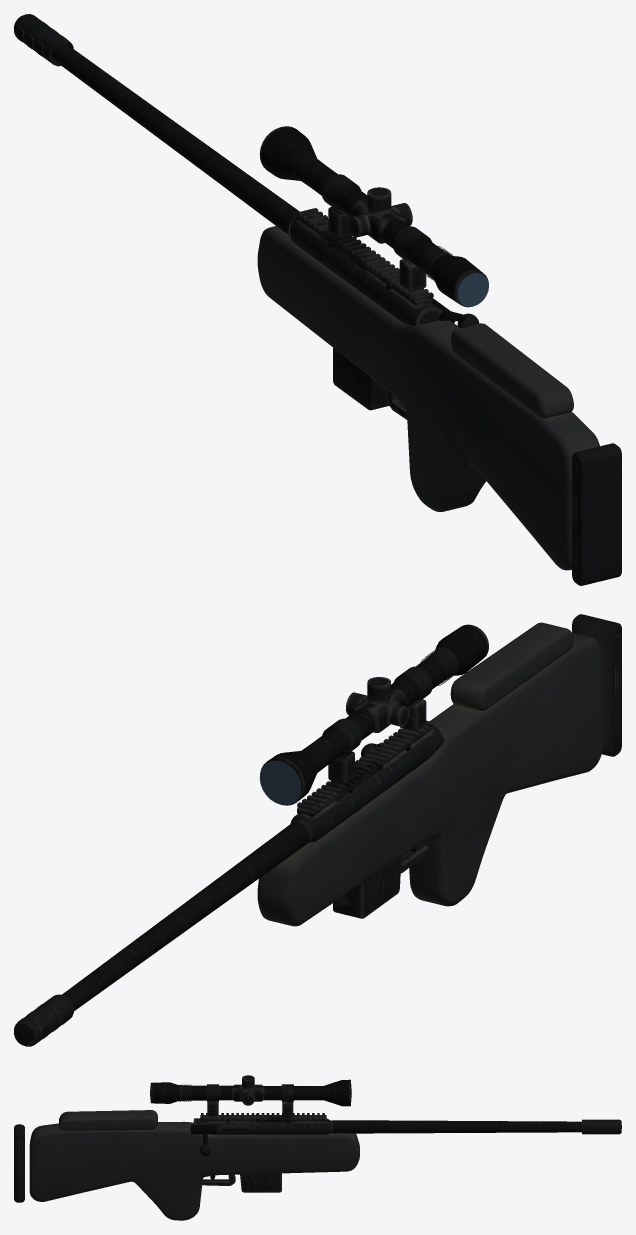
File: ssg08.glb
The picture shows the model from 3 angles, top to bottom: view 1: azimuth 30°, elevation 25°; view 2: azimuth 150°, elevation 25°; view 3: azimuth 270°, elevation 25°; orthographic projection. The views are drawn at different scales.
Visible parts, largest first — view 1: body_furniture, body_receiver, body_metal, ssg08; view 2: body_furniture, body_receiver, body_metal, ssg08; view 3: body_furniture, body_receiver, body_metal, bolt_metal.
Part boxes in pixels (x1,y1,x2,y2): body_furniture: (257,223,599,570); body_receiver: (14,14,576,576); body_metal: (17,22,621,585); ssg08: (259,129,488,306); body_furniture: (257,622,602,926); body_receiver: (14,624,618,1046); body_metal: (17,614,621,1038); ssg08: (259,626,488,805); body_furniture: (29,1110,359,1220); body_receiver: (19,1075,621,1198); body_metal: (14,1114,615,1202); bolt_metal: (190,1125,216,1144).
Bounding box in the file's own units: 0.0995 × 0.3044 × 1.2.
6 materials, 5 textured.
